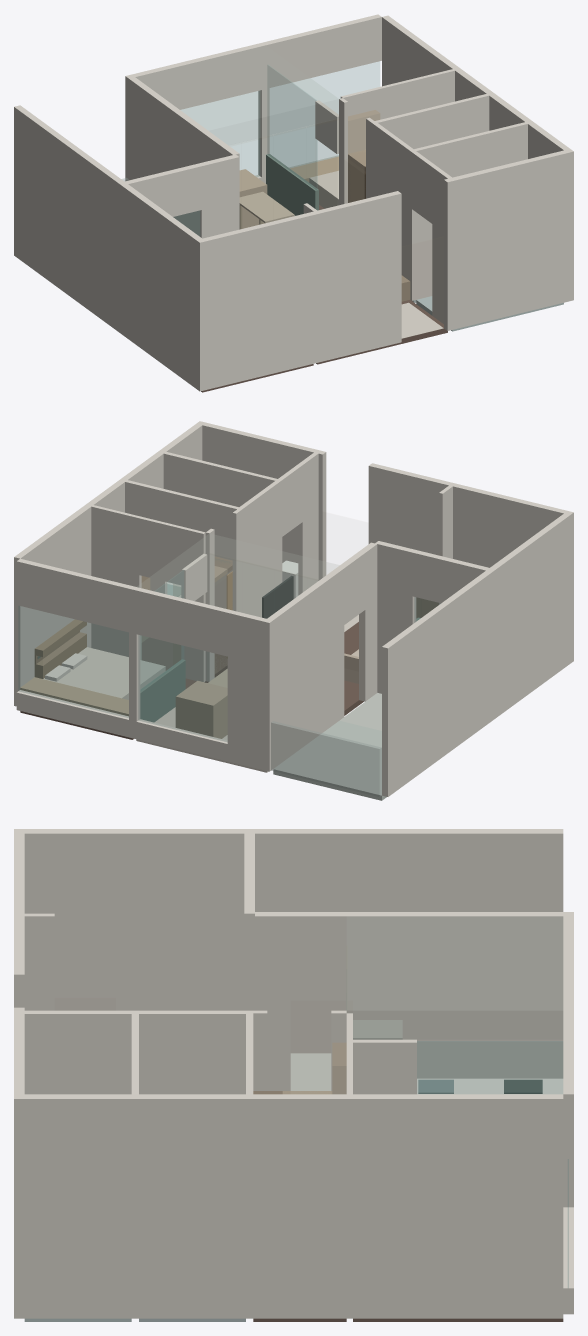
File: B8-2F_幾何模型_v0.3.glb
3 renders of one model, top to bottom at view 1: azimuth 30°, elevation 25°; view 2: azimuth 150°, elevation 25°; view 3: azimuth 270°, elevation 25°, orthographic. The views are drawn at different scales.
Visible parts, largest first — view 1: outer-bottom-a, outer-left, outer-bottom-b, kitchen-ceiling, master-window, kitchen-west, outer-right, master-window-head, bath-divider, master-partition-glass, kitchen-window-head, mainbath-west (+26 smaller); view 2: outer-left, outer-bottom-a, kitchen-west, master-window, kitchen-ceiling, outer-right, kitchen-window, kitchen-exterior-a, terrace-rail, floor-terrace, outer-bottom-b, master-window-head (+34 smaller); view 3: outer-right, outer-left, kitchen-west, kitchen-ceiling, mainbath-west, master-partition-glass, balcony-door-head, balcony-door-jamb, bath-west-head, bath-west-a, master-door-head, outer-bottom-b (+14 smaller).
Part boxes in pixels (x1=…): outer-bottom-a: x1=196, y1=191, x2=401, y2=391; outer-left: x1=14, y1=105, x2=201, y2=388; outer-bottom-b: x1=444, y1=149, x2=573, y2=330; kitchen-ceiling: x1=136, y1=46, x2=338, y2=144; master-window: x1=270, y1=61, x2=379, y2=167; kitchen-west: x1=129, y1=77, x2=205, y2=234; outer-right: x1=382, y1=15, x2=569, y2=158; master-window-head: x1=266, y1=14, x2=381, y2=87; bath-divider: x1=414, y1=122, x2=527, y2=299; master-partition-glass: x1=267, y1=65, x2=317, y2=189; kitchen-window-head: x1=167, y1=43, x2=261, y2=109; mainbath-west: x1=370, y1=121, x2=416, y2=300; outer-left: x1=382, y1=513, x2=570, y2=796; outer-bottom-a: x1=368, y1=463, x2=573, y2=663; kitchen-west: x1=267, y1=567, x2=344, y2=768; master-window: x1=18, y1=606, x2=128, y2=717; kitchen-ceiling: x1=137, y1=534, x2=338, y2=617; outer-right: x1=14, y1=423, x2=202, y2=706; kitchen-window: x1=138, y1=635, x2=227, y2=741; kitchen-exterior-a: x1=227, y1=610, x2=273, y2=771; terrace-rail: x1=271, y1=721, x2=381, y2=796; floor-terrace: x1=273, y1=720, x2=386, y2=800; outer-bottom-b: x1=196, y1=421, x2=326, y2=580; master-window-head: x1=16, y1=558, x2=131, y2=632; outer-right: x1=24, y1=1094, x2=563, y2=1318; outer-left: x1=24, y1=829, x2=563, y2=1053; kitchen-west: x1=353, y1=912, x2=563, y2=1078; kitchen-ceiling: x1=347, y1=917, x2=562, y2=1038; mainbath-west: x1=131, y1=1010, x2=253, y2=1094; master-partition-glass: x1=417, y1=1041, x2=562, y2=1093; balcony-door-head: x1=290, y1=912, x2=352, y2=1000; balcony-door-jamb: x1=255, y1=912, x2=290, y2=1093; bath-west-head: x1=71, y1=1010, x2=131, y2=1094; bath-west-a: x1=24, y1=1010, x2=70, y2=1094; master-door-head: x1=353, y1=1039, x2=416, y2=1094; outer-bottom-b: x1=14, y1=1007, x2=24, y2=1318.
Size of the model in its own units: 8.95 by 3.52 by 7.85.
